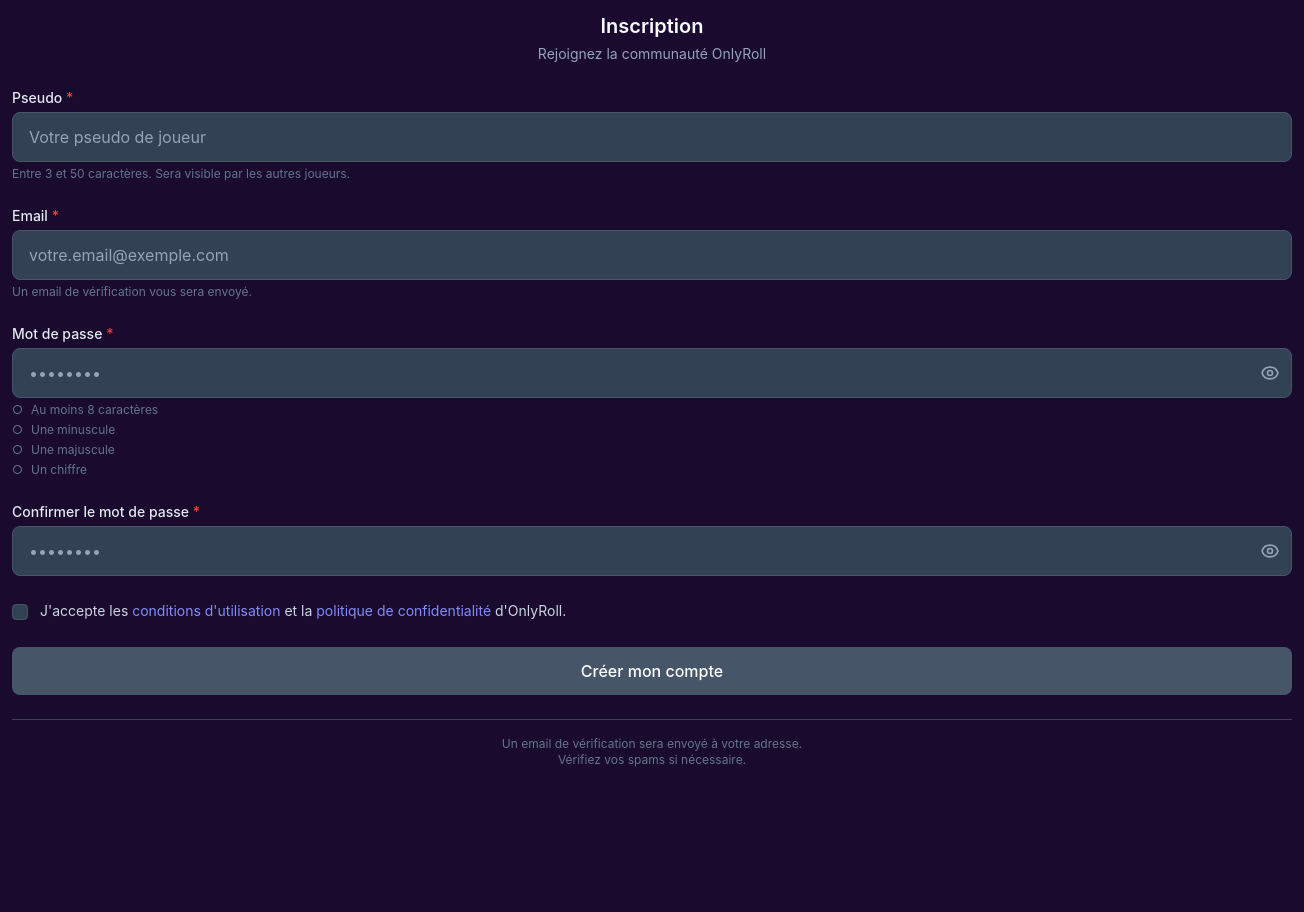
Test: RegisterForm.vue › should validate email field on blur
Type "invalid-email" into the field with id "email".
click(652, 255); type("invalid-email")  # box [12, 230, 1292, 280]
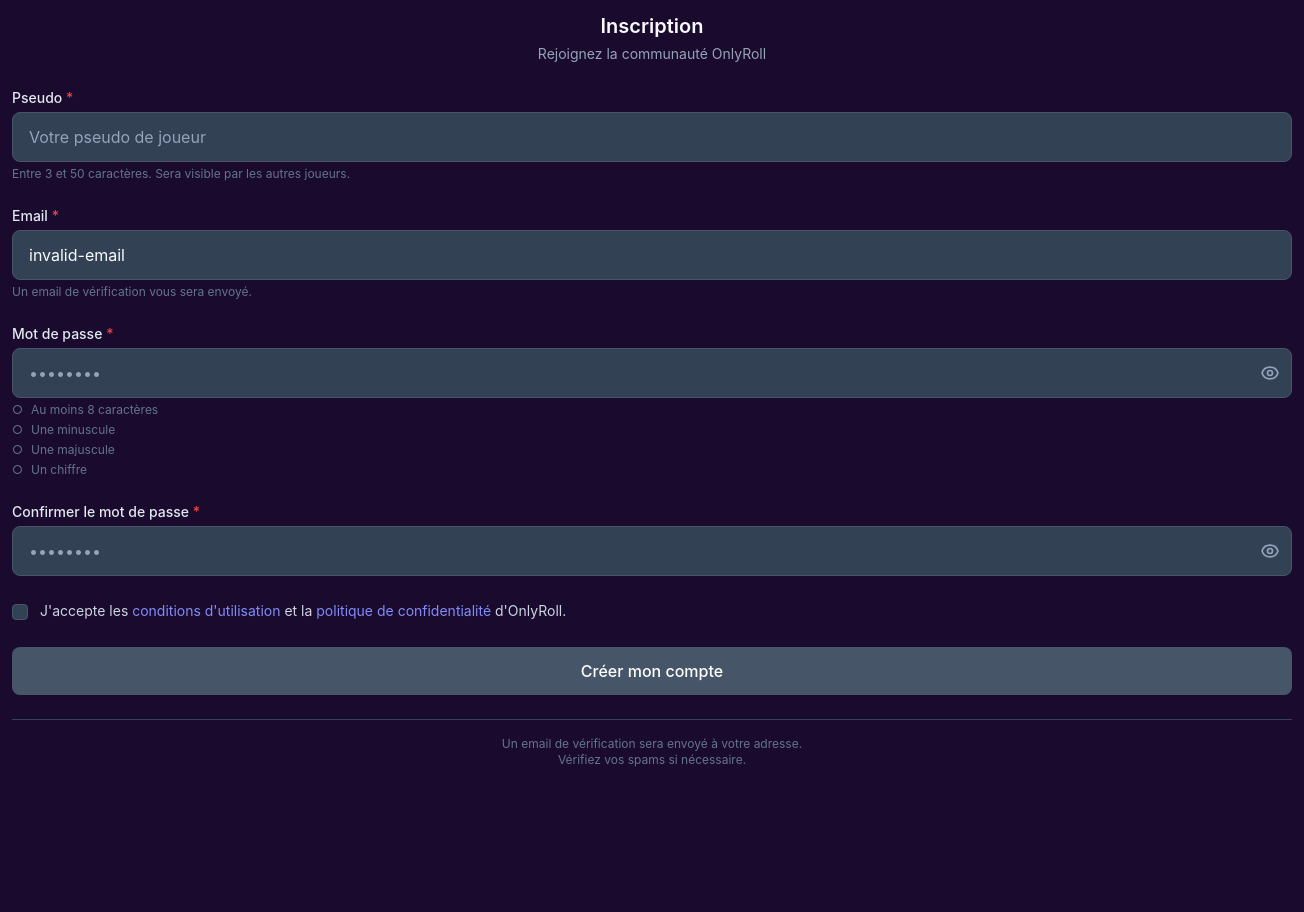
Leave the field with id "email", box [12, 230, 1292, 280]
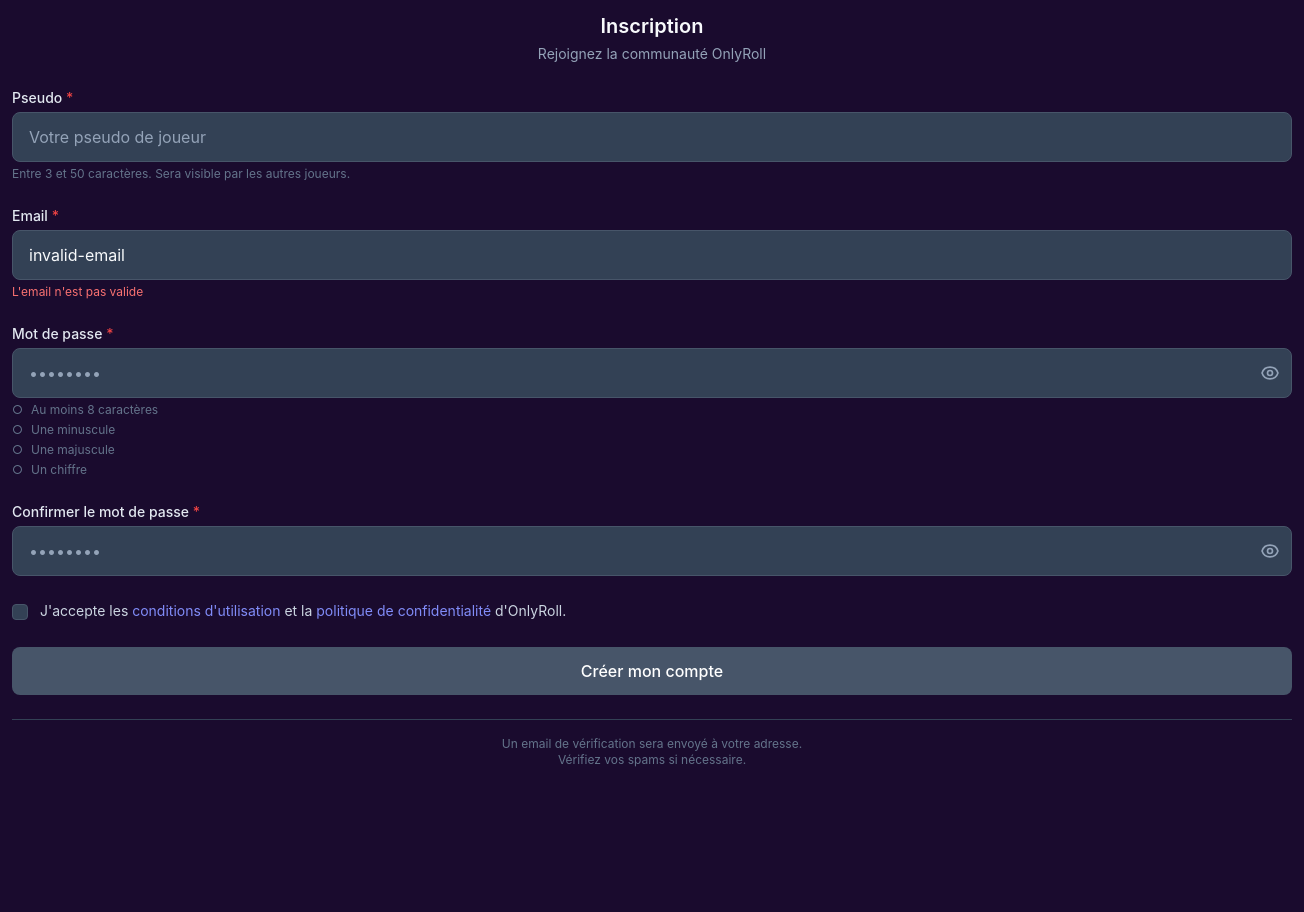
Now the text "L'email n'est pas valide" is shown, box [12, 284, 143, 299]
